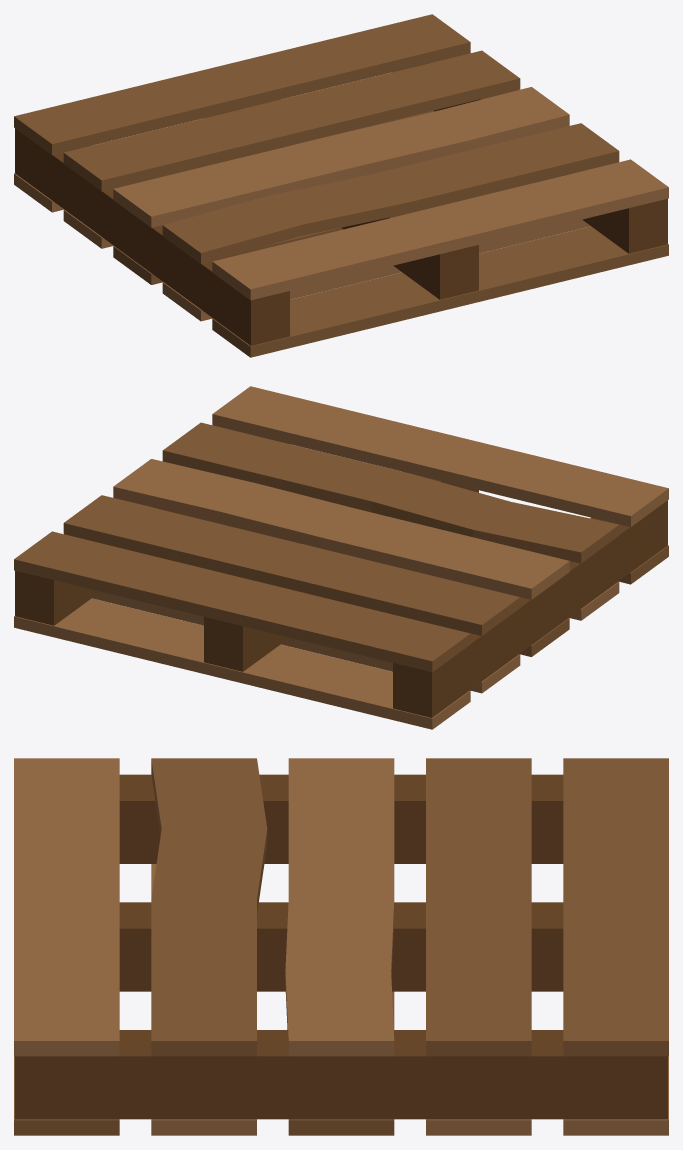
Rendered from Pallet_01.fbx.
The picture shows the model from 3 angles, top to bottom: view 1: azimuth 30°, elevation 25°; view 2: azimuth 150°, elevation 25°; view 3: azimuth 270°, elevation 25°; orthographic projection. The views are drawn at different scales.
Parts seen in each view (by area): view 1: Pallet_01; view 2: Pallet_01; view 3: Pallet_01.
Boxes of the visible parts, left/top/right/bottom form: Pallet_01: left=14, top=14, right=668, bottom=357; Pallet_01: left=14, top=386, right=668, bottom=729; Pallet_01: left=14, top=758, right=668, bottom=1135.
Size of the model in its own units: 100 by 15.68 by 98.32.
